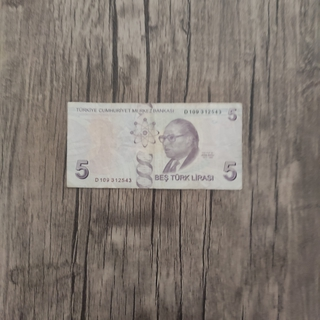5TLBack: (66, 100, 243, 190)
